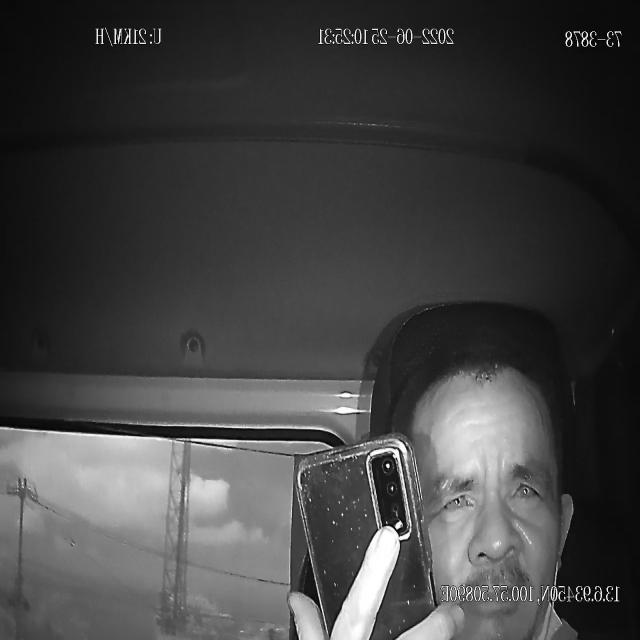phone: (295, 433, 438, 640)
